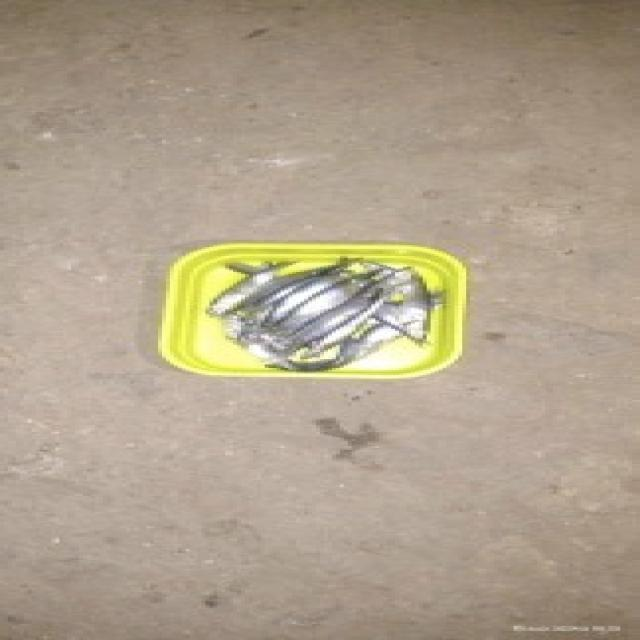Fish: (180, 246, 461, 375)
